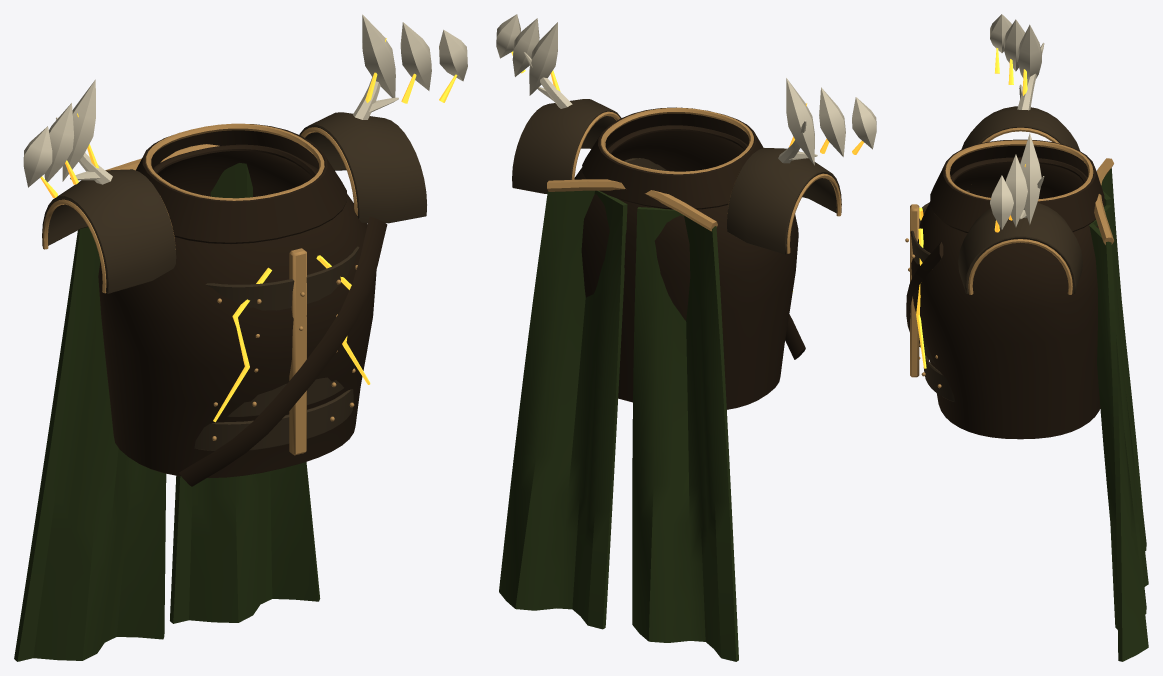
File: asc_wildroot_hunter_armor.glb
3 views of the same model, side by side, from view 1: azimuth 30°, elevation 25°; view 2: azimuth 150°, elevation 25°; view 3: azimuth 270°, elevation 25° (orthographic). The views are drawn at different scales.
Visible parts, largest first — view 1: asc_wildroot_hunter_armor, AT_upper_arm_R, AT_upper_arm_L; view 2: asc_wildroot_hunter_armor, AT_upper_arm_R, AT_upper_arm_L; view 3: asc_wildroot_hunter_armor, AT_upper_arm_L, AT_upper_arm_R.
Part boxes in pixels (x1,y1,x2,y2): asc_wildroot_hunter_armor: [14, 14, 467, 661]; AT_upper_arm_R: [42, 117, 176, 293]; AT_upper_arm_L: [299, 37, 426, 223]; asc_wildroot_hunter_armor: [496, 14, 876, 661]; AT_upper_arm_R: [727, 120, 841, 254]; AT_upper_arm_L: [512, 52, 621, 193]; asc_wildroot_hunter_armor: [905, 14, 1148, 661]; AT_upper_arm_L: [958, 176, 1082, 294]; AT_upper_arm_R: [961, 43, 1079, 150].
Size of the model in its own units: 0.9187 by 1.24 by 0.5243.
